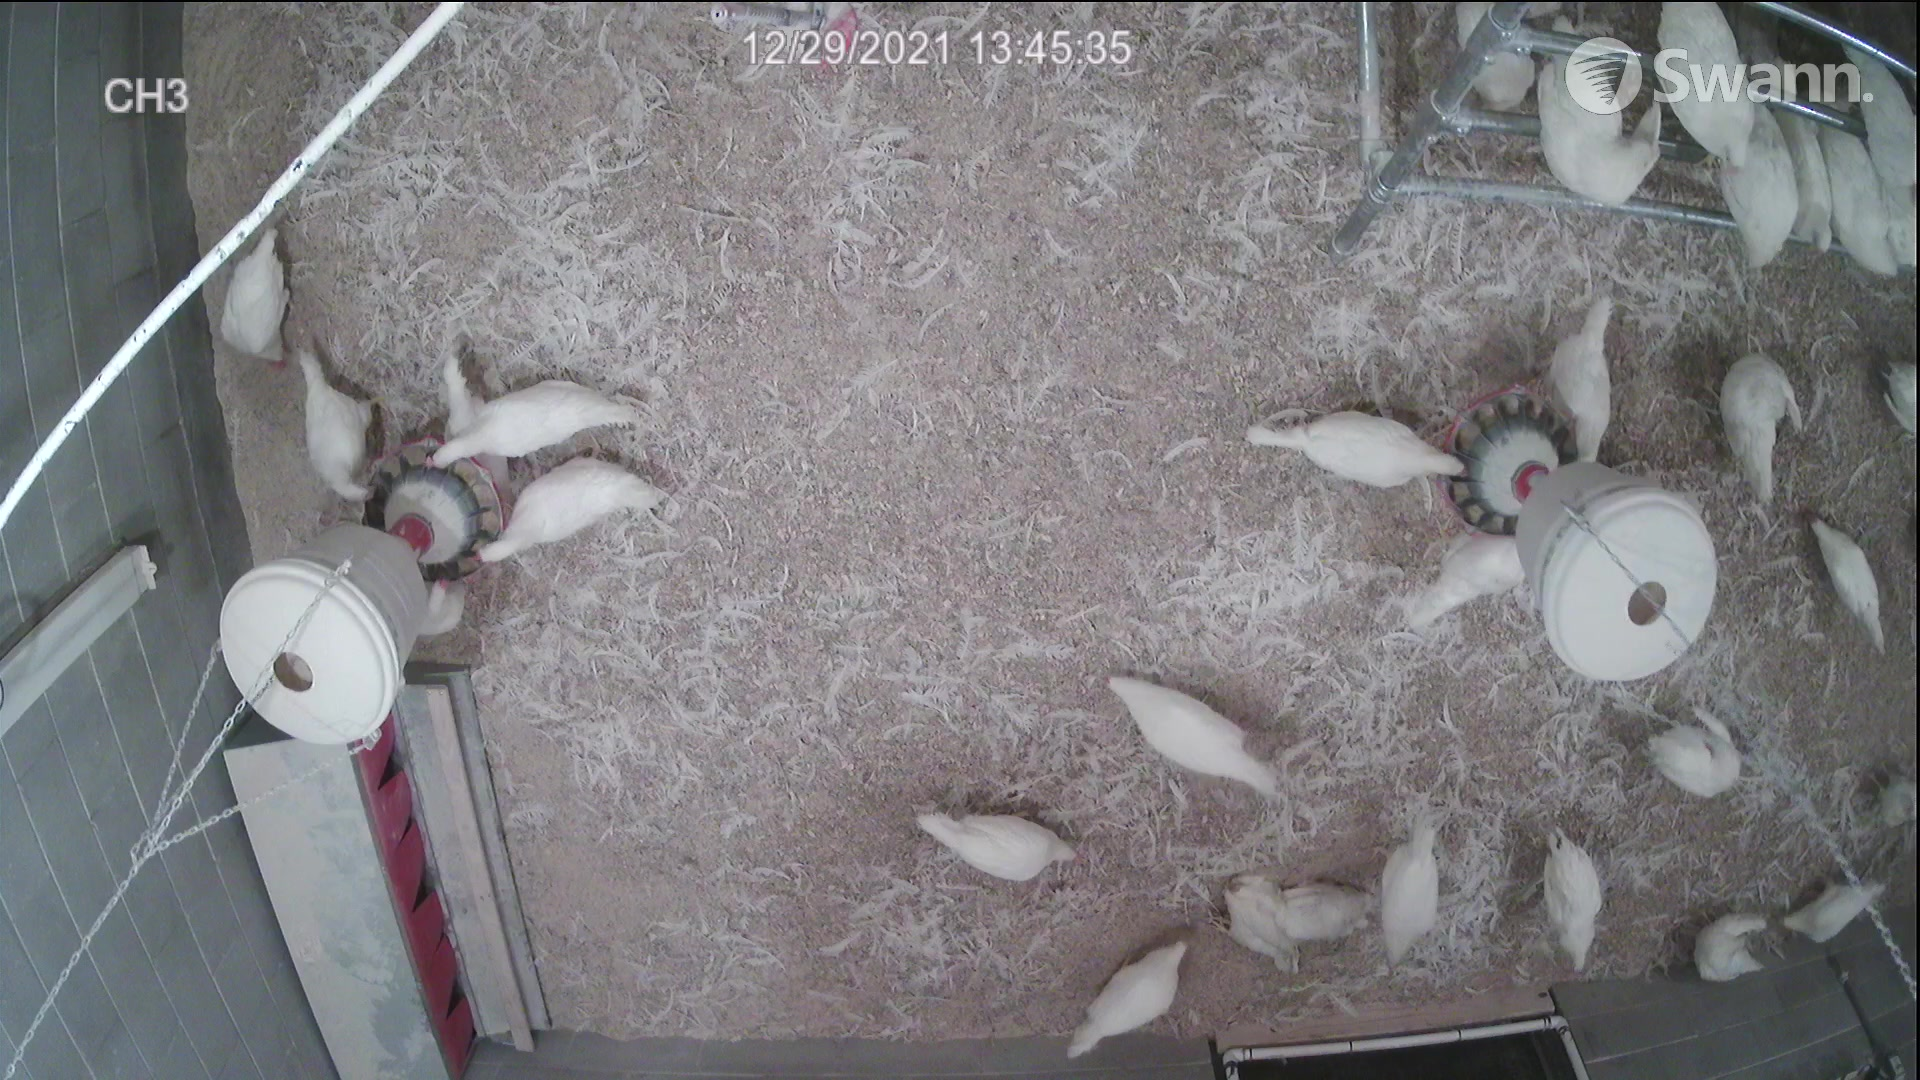Feeding: (444, 451, 666, 567), (1251, 401, 1458, 497), (415, 364, 644, 447), (290, 339, 381, 495), (1549, 290, 1626, 465)
Foraging: (1109, 659, 1276, 794), (910, 795, 1097, 898), (1059, 927, 1208, 1048), (1535, 815, 1601, 981), (1382, 815, 1448, 977), (1807, 516, 1880, 646), (225, 225, 287, 367)
Perching: (1535, 29, 1659, 215), (1663, 0, 1753, 160), (1847, 37, 1917, 208), (1717, 116, 1800, 252), (1818, 127, 1891, 258), (1785, 99, 1829, 252)
Preening: (1720, 348, 1800, 495), (1274, 865, 1365, 952), (1647, 708, 1738, 793), (1217, 862, 1279, 968)
